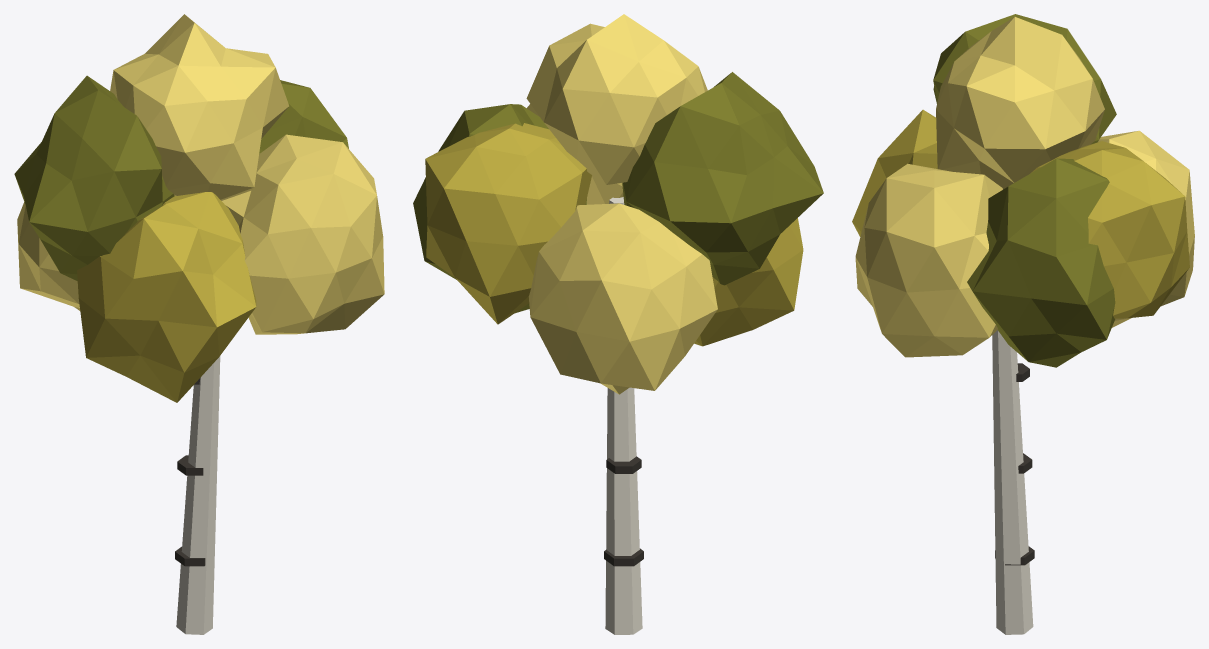
The model's file is tree_birch_4.glb.
The picture shows the model from 3 angles, left to right: view 1: azimuth 30°, elevation 25°; view 2: azimuth 150°, elevation 25°; view 3: azimuth 270°, elevation 25°; orthographic projection.
Visible parts, largest first — view 1: tree_birch_4; view 2: tree_birch_4; view 3: tree_birch_4.
Part boxes in pixels (<box>): tree_birch_4: <box>14,14,384,634</box>; tree_birch_4: <box>413,14,823,634</box>; tree_birch_4: <box>852,14,1194,634</box>.
Size of what is drawn, in the model's own units: 4.84 by 7.94 by 4.04.
